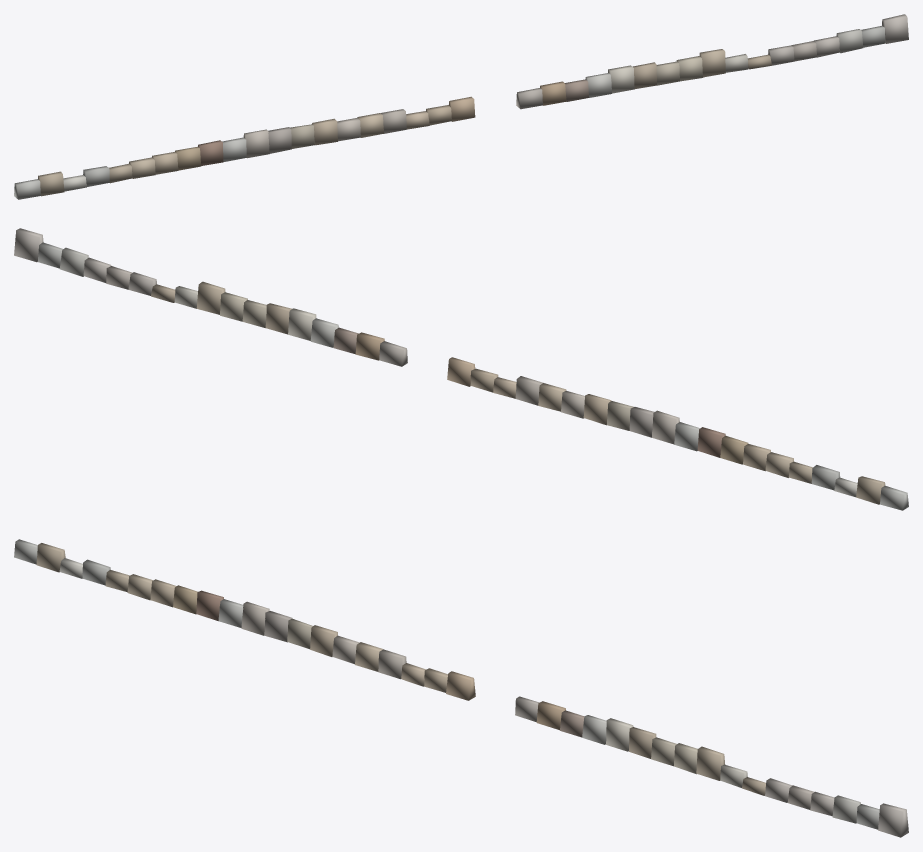
File: farm_19_39_far.glb
3 views of the same model, one above another, from view 1: azimuth 30°, elevation 25°; view 2: azimuth 150°, elevation 25°; view 3: azimuth 330°, elevation 25° (orthographic). The views are drawn at different scales.
Parts seen in each view (by area): view 1: geometry_0; view 2: geometry_0; view 3: geometry_0.
Boxes of the visible parts, <box> form: geometry_0: <box>14,14,908,199</box>; geometry_0: <box>14,228,908,510</box>; geometry_0: <box>14,539,908,837</box>.
Bounding box in the file's own units: 61.34 × 2.16 × 6.59.
